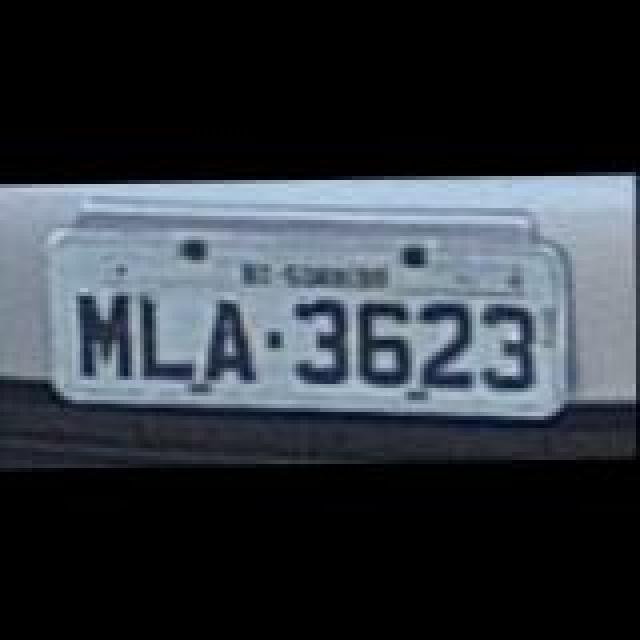2: (422, 298, 478, 386)
3: (292, 296, 352, 384), (482, 300, 538, 388)
6: (356, 294, 416, 382)
A: (206, 294, 262, 382)
L: (140, 292, 200, 376)
M: (74, 288, 138, 376)
